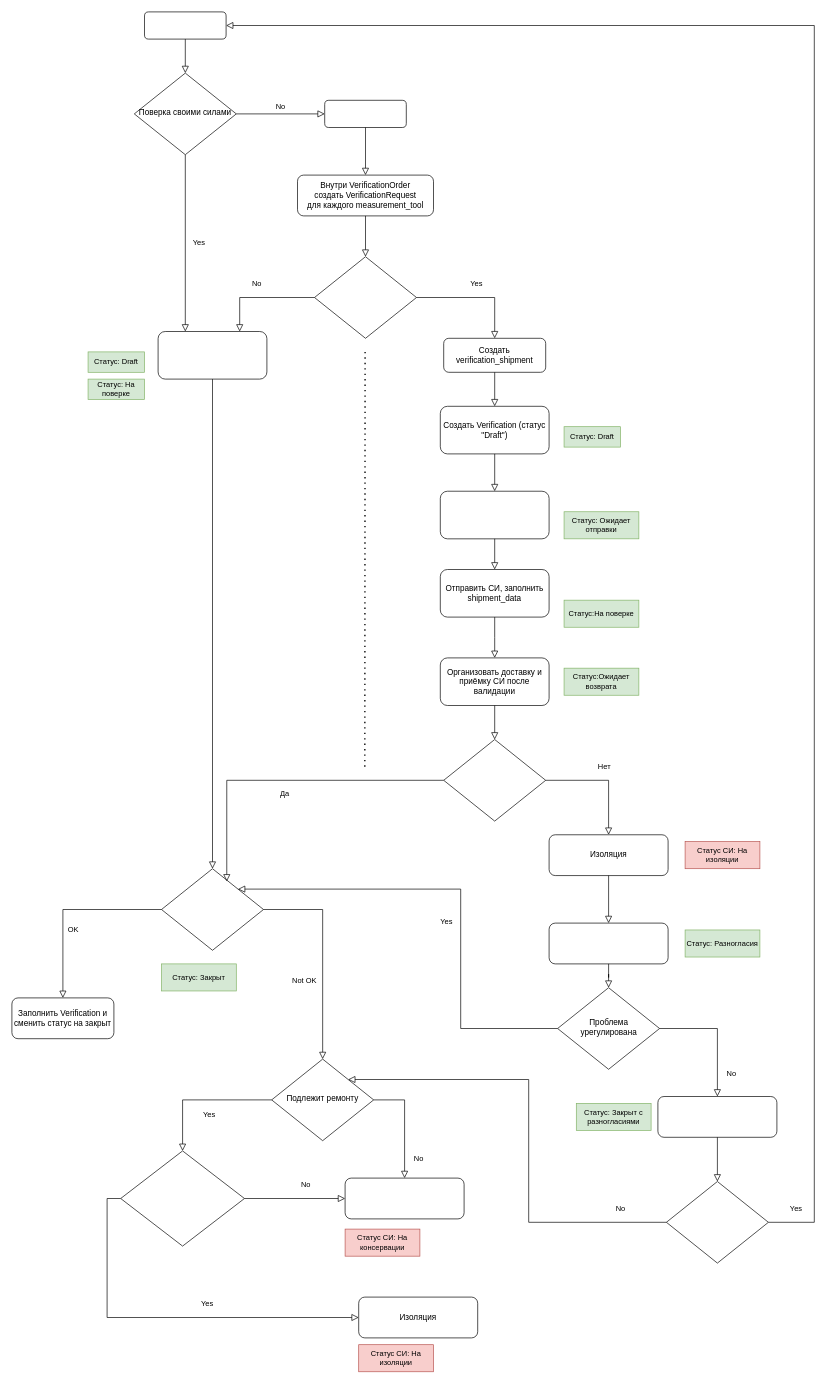
Image size: 833x1384. Some labels were removed from this diagram. The shapes that lost their labels are listed below. From the top down, each one's centre as x and y in pixels, then its label:
point 185,25: Необходимость поверки
point 365,114: Создать VerificationOrder
point 365,297: Есть необходимость отправки СИ
point 212,355: Создать Verification (статус "Draft" или "На поверке")
point 494,515: Подготовить СИ, документы
point 494,780: СИ доставлены, без повреждений и работоспособны, документы в порядке
point 212,909: Результат
point 608,943: Претензионная работа. Сменить статус "Разногласия"
point 717,1116: Сменить статус на "Закрыт с разногласиями"
point 182,1198: Ремонт планируется в ближайшие 30 дней
point 404,1198: Консервация до ремонта или списания
point 717,1222: Пригоден к использованию?
